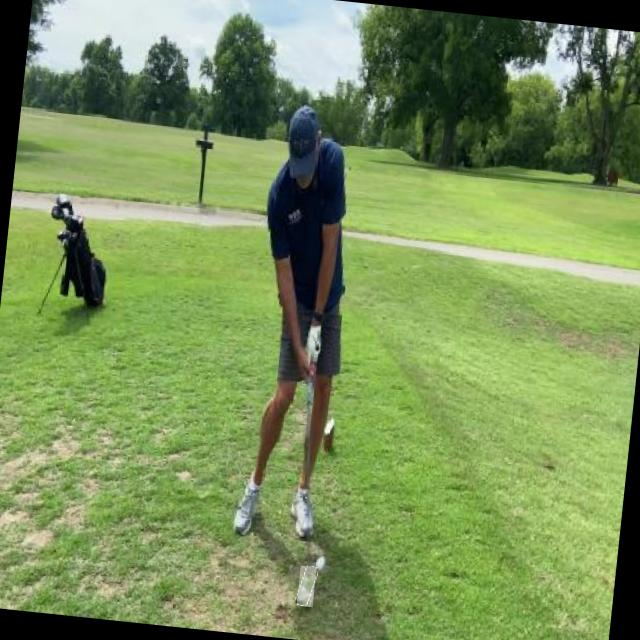club head: (296, 565, 316, 607)
